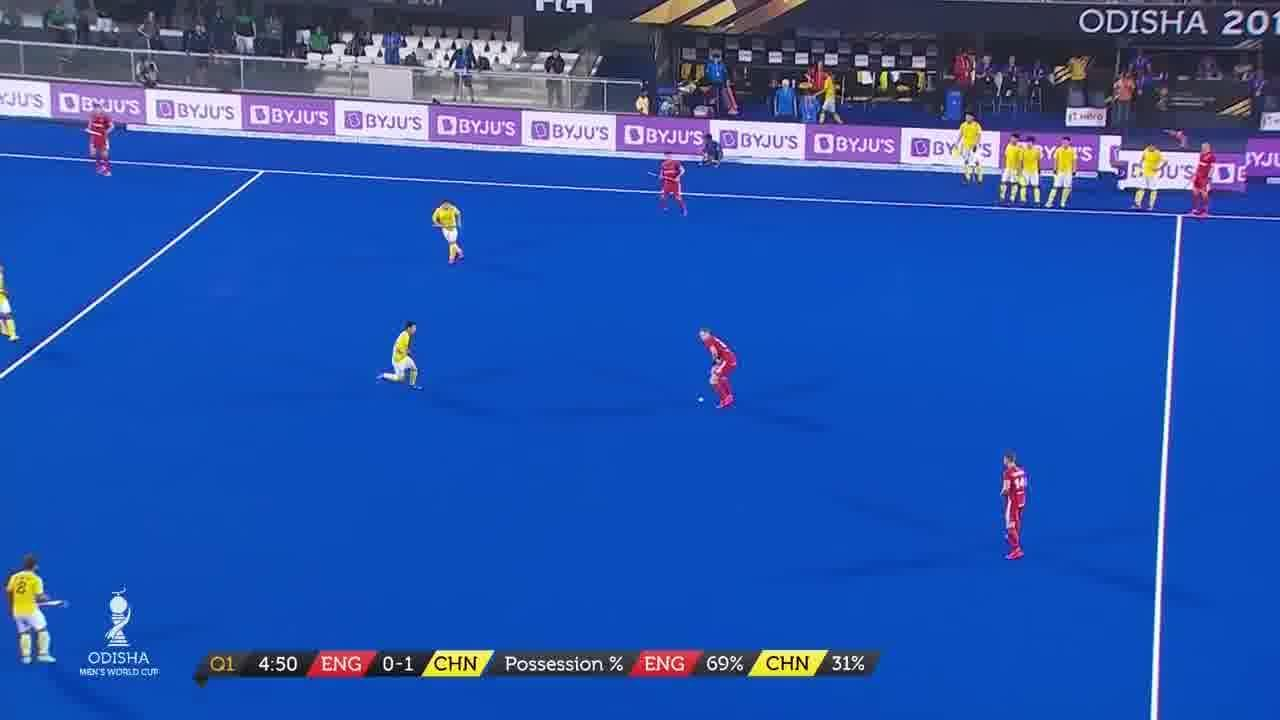ball: (694, 380, 712, 420)
